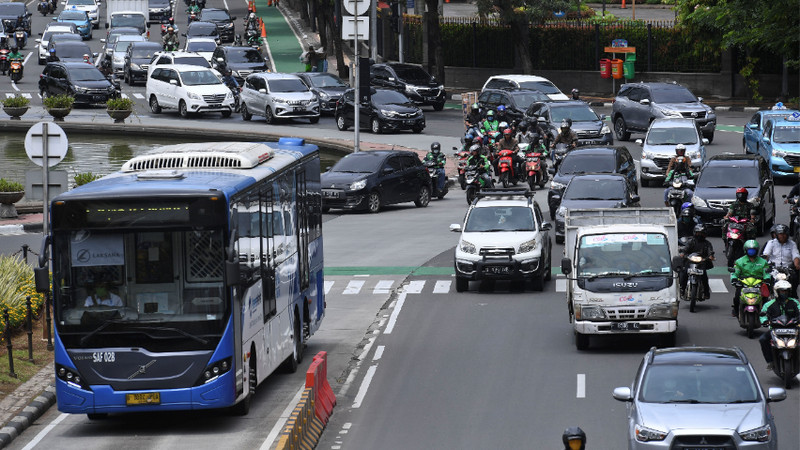car: (50, 131, 325, 418), (625, 343, 784, 448), (567, 205, 680, 342), (456, 190, 554, 291), (323, 143, 429, 220), (610, 82, 716, 145), (697, 156, 780, 235), (551, 146, 635, 216), (557, 174, 634, 250), (525, 99, 612, 164), (482, 74, 573, 130), (147, 64, 236, 119), (337, 84, 427, 138), (639, 118, 706, 186), (369, 59, 445, 116), (473, 90, 552, 142), (241, 75, 318, 127), (39, 60, 114, 110), (151, 49, 223, 97), (744, 101, 799, 163), (210, 45, 269, 99), (761, 116, 800, 178), (296, 71, 349, 116), (105, 1, 149, 46), (51, 41, 95, 82), (50, 42, 96, 78), (124, 41, 163, 82), (113, 35, 146, 79), (182, 38, 220, 75), (199, 6, 236, 43), (40, 27, 76, 63), (185, 21, 221, 53), (1, 1, 32, 35), (56, 9, 92, 37)
motorbike: (762, 281, 800, 389), (732, 238, 768, 336), (679, 225, 716, 314), (721, 188, 758, 274), (765, 225, 800, 304), (465, 146, 498, 206), (666, 158, 692, 221), (426, 144, 450, 204), (482, 109, 503, 172), (526, 133, 549, 190), (495, 130, 518, 186), (455, 133, 476, 188), (554, 122, 578, 169), (514, 123, 532, 177), (465, 103, 483, 143), (9, 45, 25, 83), (246, 11, 260, 47), (15, 14, 26, 52), (248, 30, 263, 57), (163, 27, 179, 52), (1, 34, 9, 77)
